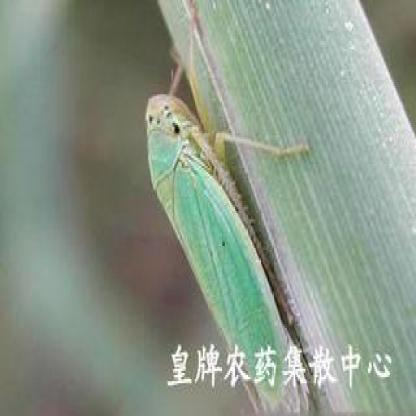Green-Leafhopper: (141, 1, 313, 416)
